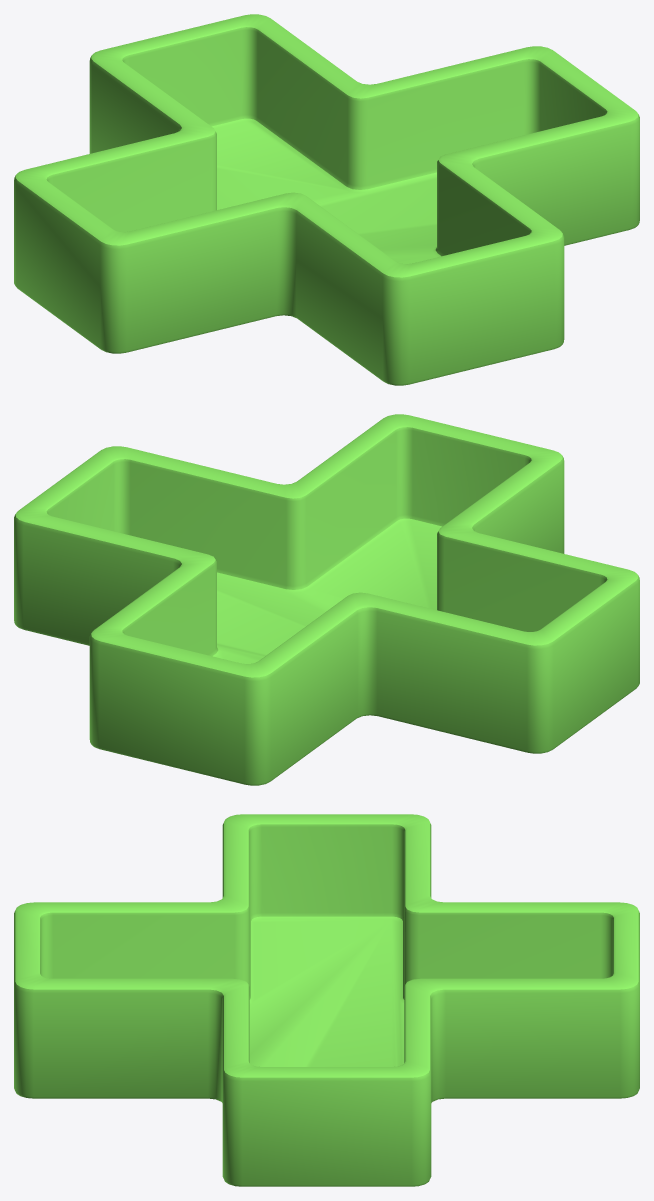
File: Shape_Plus5.fbx
3 renders of one model, top to bottom at view 1: azimuth 30°, elevation 25°; view 2: azimuth 150°, elevation 25°; view 3: azimuth 270°, elevation 25°, orthographic.
Parts seen in each view (by area): view 1: Shape_Plus5; view 2: Shape_Plus5; view 3: Shape_Plus5.
Part boxes in pixels (box(x1,y1,x2,y2)): Shape_Plus5: box(14, 14, 639, 385); Shape_Plus5: box(14, 414, 639, 785); Shape_Plus5: box(14, 814, 639, 1186).
Bounding box in the file's own units: 2.55 × 0.5 × 2.55.
